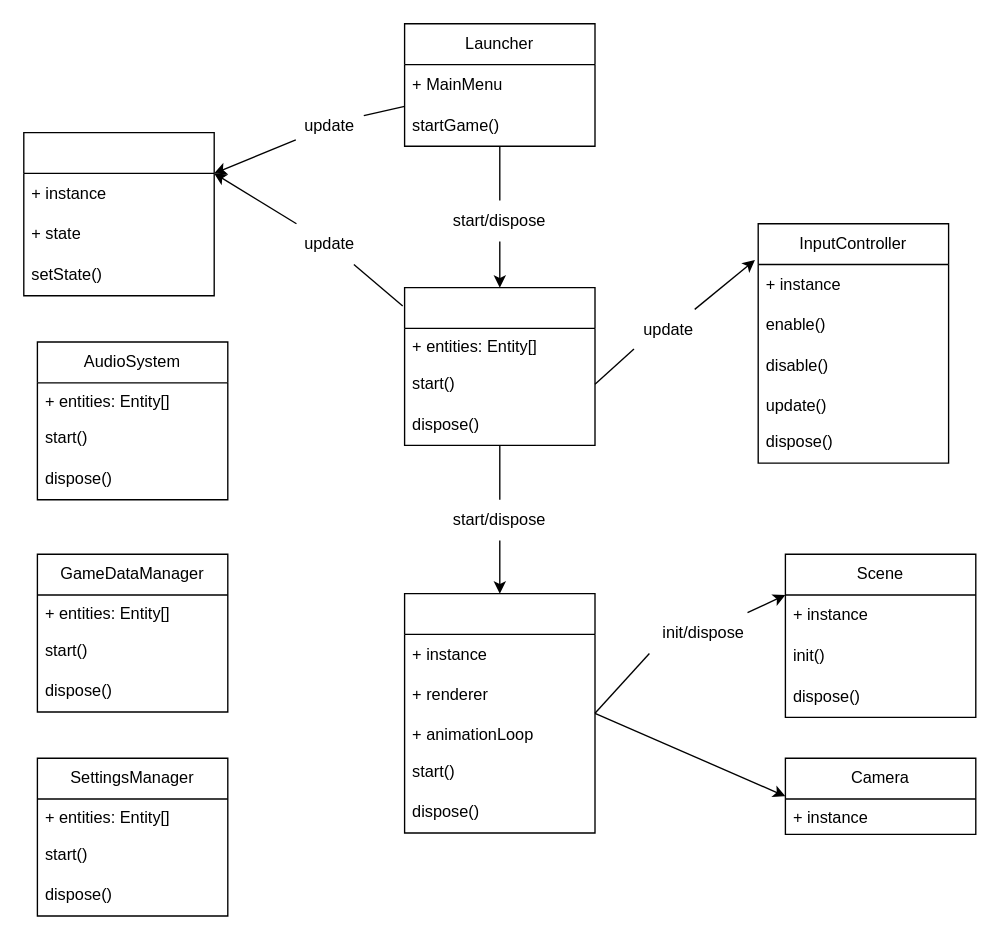
Image size: 1000x940. Some labels were removed from this diagram. Here are the shapes that lost their labels. From the top down, the box of each, then its label:
(22, 131, 214, 296): GameState
(403, 286, 595, 445): GameLoop
(403, 592, 595, 833): Engine
